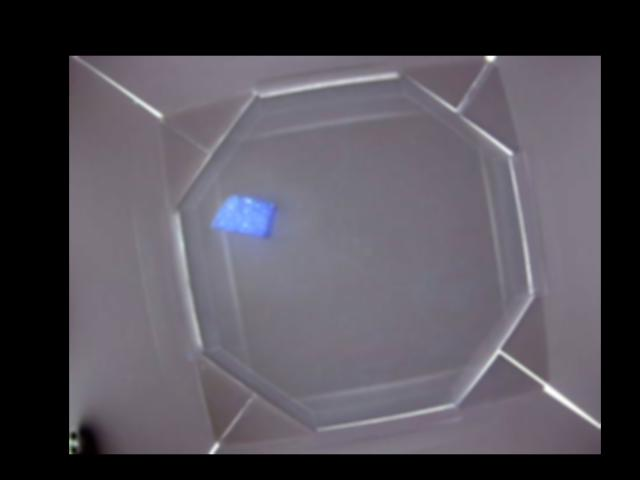Potato: (209, 191, 278, 240)
